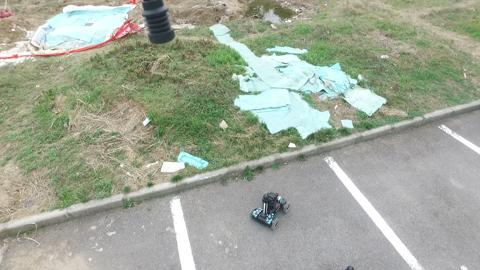chariot: (246, 186, 290, 233)
